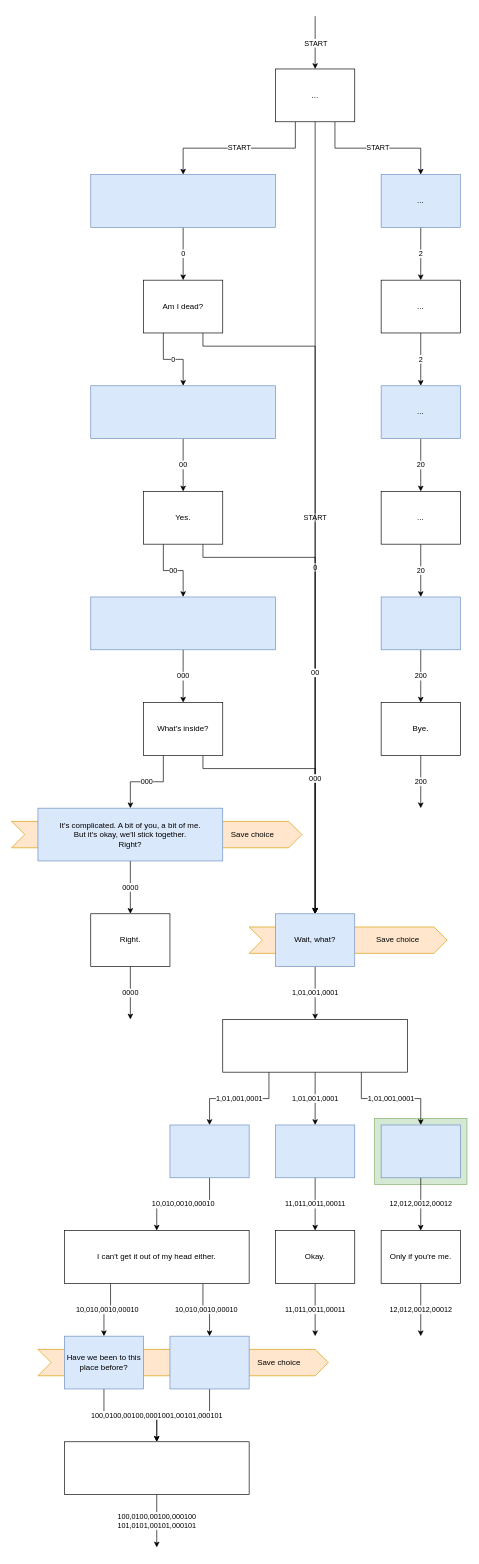
Image size: 479x1564. Some labels were removed from this diagram. The shapes that lost their labels are listed below. From the top down, each one's box as (x1, y1, x2, y2) in pixels, then its label:
(90, 174, 276, 227): Sooner or later it had to happen. Heart attack, big fall, car crash.
(90, 385, 276, 439): It sucks , it really does. I'm sorry for you. Do you still feel the pull?
(90, 596, 276, 650): I expected as much. Enjoy purgatory. Want to take a peek inside?
(380, 596, 460, 650): Bye I guess.
(222, 1019, 408, 1072): Oh, sorry. Got a little confused there. What were we talking about?
(169, 1124, 249, 1178): Huh. Déja vu.
(275, 1124, 355, 1178): Nevermind.
(380, 1124, 460, 1178): Are you me?
(169, 1336, 249, 1389): Do you think this is what we've been looking for all along?
(64, 1441, 249, 1495): Only in dreams.
